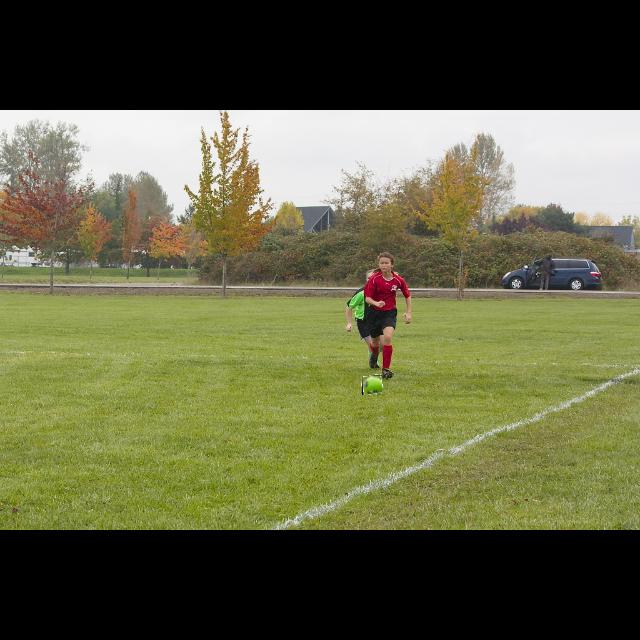Football: (362, 375, 382, 395)
